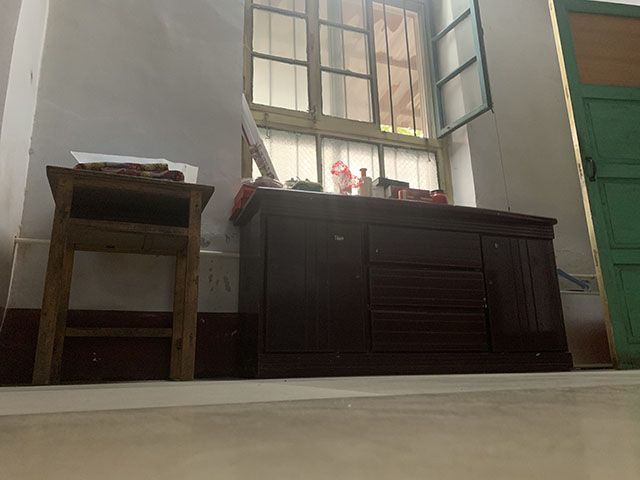cabinet: (231, 184, 575, 381)
table: (30, 162, 216, 387)
